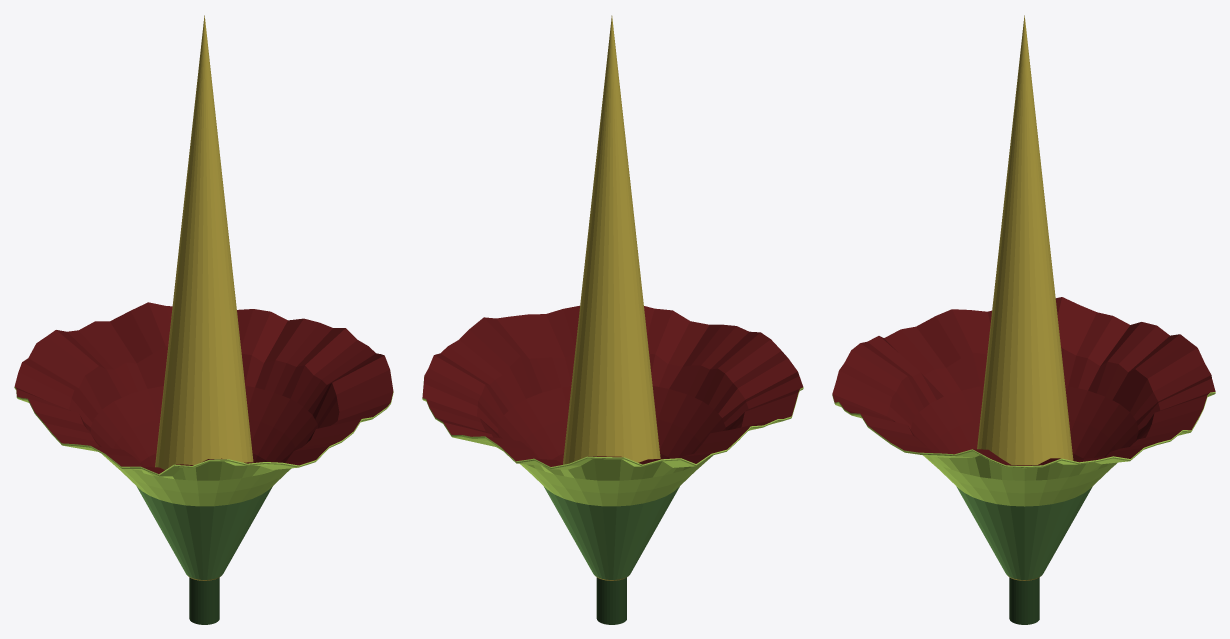
The model's file is Corpse Flower_Ryan.fbx.
3 renders of one model, left to right at view 1: azimuth 30°, elevation 25°; view 2: azimuth 150°, elevation 25°; view 3: azimuth 270°, elevation 25°, orthographic.
Parts seen in each view (by area): view 1: Cone; view 2: Cone; view 3: Cone.
Boxes of the visible parts, x1,y1,x2,y2 form: Cone: (14,15,393,624); Cone: (422,15,803,624); Cone: (832,15,1215,624).
Bounding box in the file's own units: 420 × 740 × 425.
